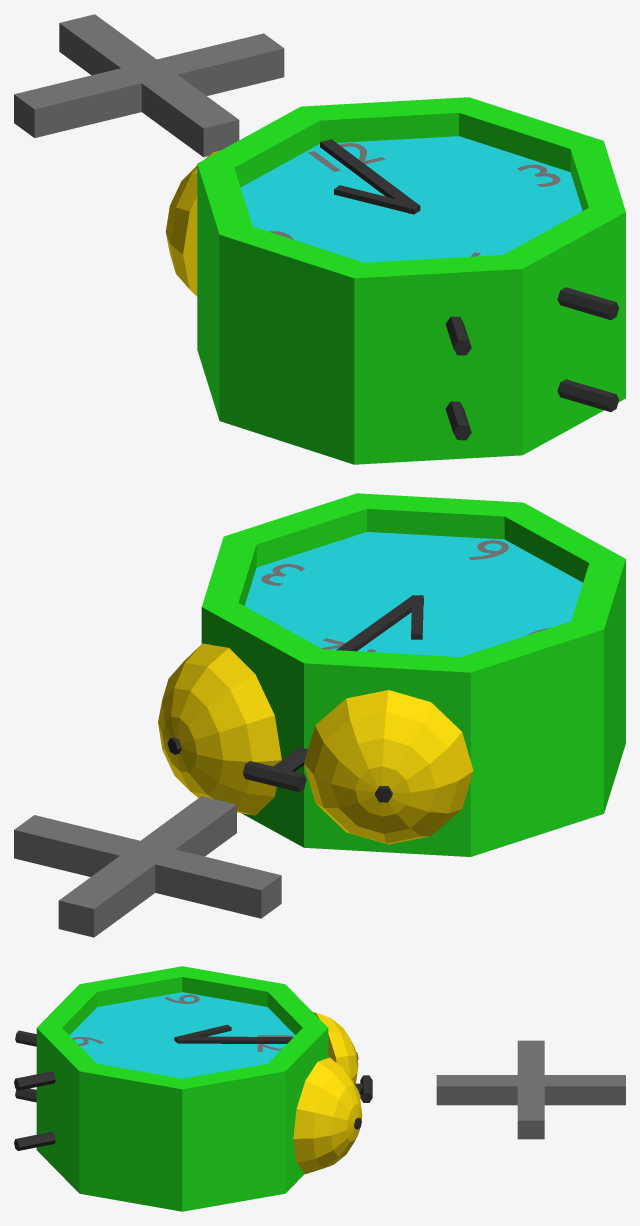
Rendered from plusClock.fbx.
The picture shows the model from 3 angles, top to bottom: view 1: azimuth 30°, elevation 25°; view 2: azimuth 150°, elevation 25°; view 3: azimuth 270°, elevation 25°; orthographic projection. The views are drawn at different scales.
Parts seen in each view (by area): view 1: Zegar, Plus; view 2: Zegar, Plus; view 3: Zegar, Plus.
Boxes of the visible parts, bbox=[...] form: Zegar: bbox=[165, 97, 625, 464]; Plus: bbox=[14, 14, 284, 157]; Zegar: bbox=[158, 493, 625, 856]; Plus: bbox=[14, 796, 281, 937]; Zegar: bbox=[14, 966, 372, 1211]; Plus: bbox=[436, 1040, 625, 1139].
Bounding box in the file's own units: 2 × 0.9269 × 4.2.
